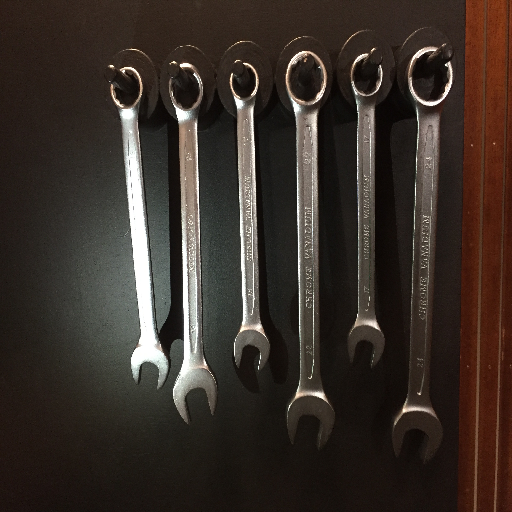bottom: (390, 402, 444, 467), (285, 387, 335, 452), (172, 361, 218, 423), (346, 318, 385, 371), (129, 341, 170, 390), (231, 323, 271, 373)
top: (404, 44, 456, 109), (283, 48, 328, 109), (166, 61, 207, 115), (109, 65, 147, 114), (349, 52, 385, 102), (227, 61, 263, 105)
